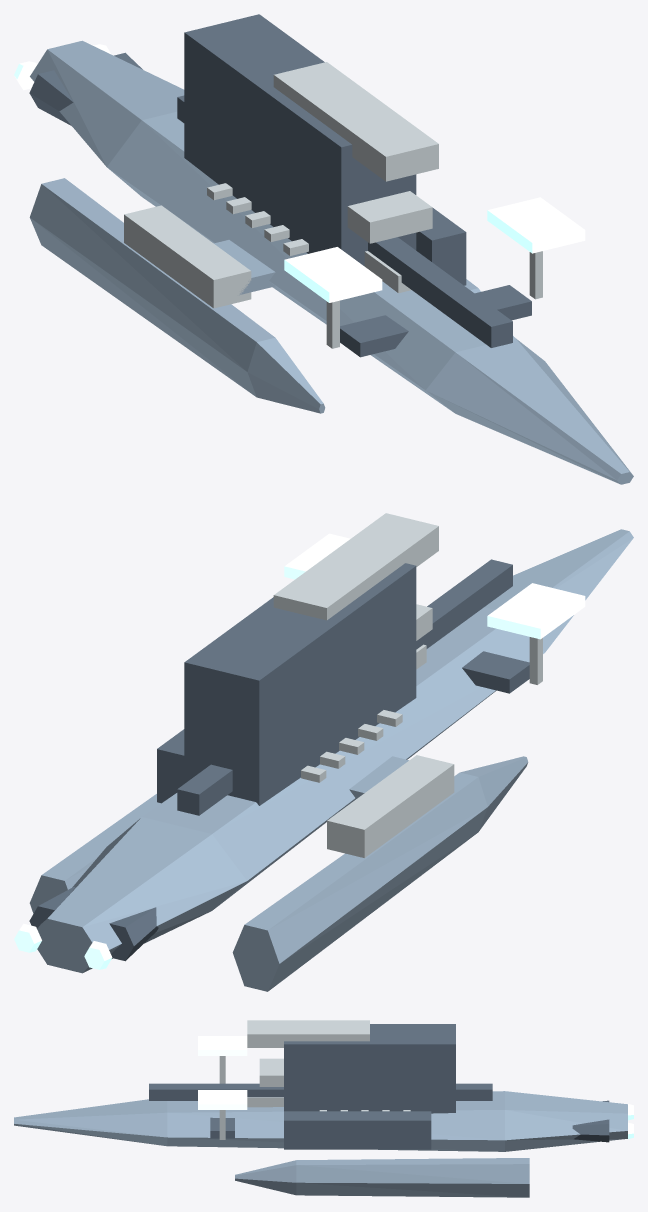
3 renders of one model, top to bottom at view 1: azimuth 30°, elevation 25°; view 2: azimuth 150°, elevation 25°; view 3: azimuth 270°, elevation 25°, orthographic. The views are drawn at different scales.
Size of the model in its own units: 2.69 by 2.57 by 10.3.
